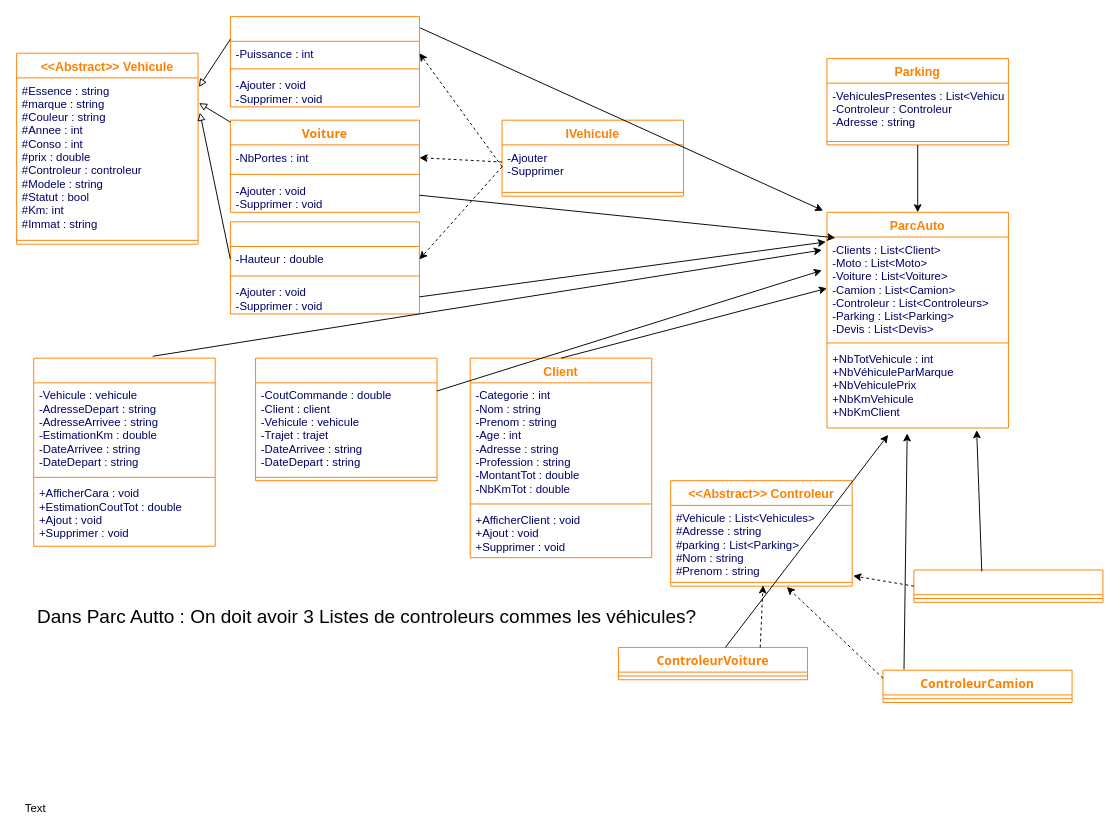
Some shapes in this 1120 by 835 pixel diagram are drawn without their labels. The shapes that lost their labels are listed below. From the top down, each one's box as (x1, y1, x2, y2) in pixels, then its label:
(229, 16, 419, 107): Moto
(229, 221, 419, 314): Camion
(255, 357, 437, 481): Devis
(33, 357, 215, 546): Trajet
(913, 569, 1103, 602): ControleurMoto
